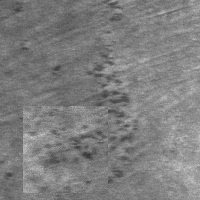rolled-in_scale: (79, 36, 140, 193), (23, 106, 108, 193)
